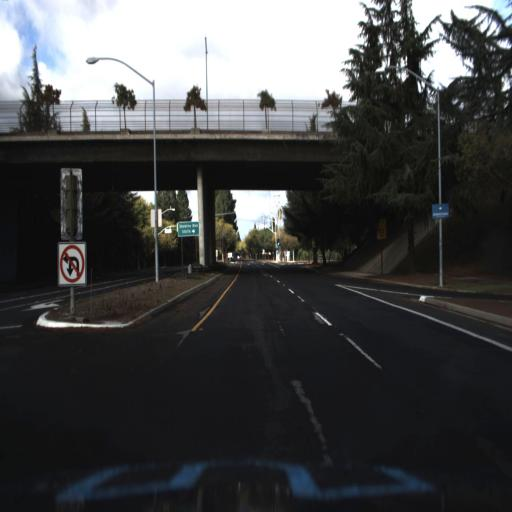trafficLight-Green: (277, 239, 280, 246), (254, 225, 256, 232)
